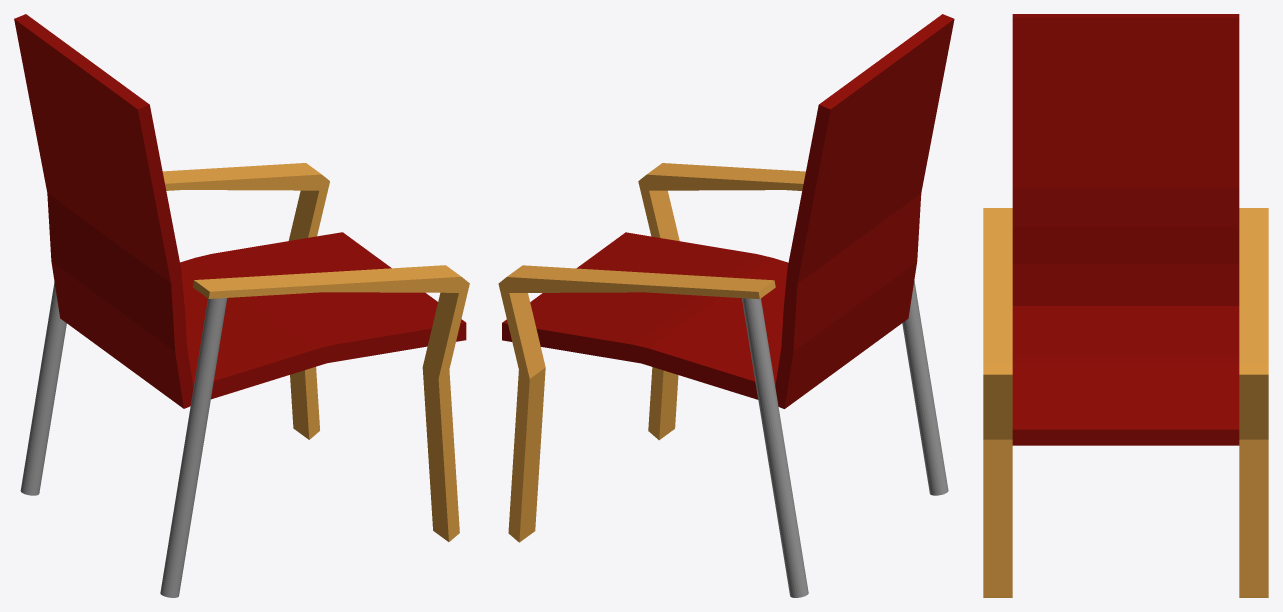
Rendered from SANDALYE.fbx.
The picture shows the model from 3 angles, left to right: view 1: azimuth 30°, elevation 25°; view 2: azimuth 150°, elevation 25°; view 3: azimuth 270°, elevation 25°; orthographic projection. The views are drawn at different scales.
Parts seen in each view (by area): view 1: Cube.001, Cube.002, Cylinder; view 2: Cube.001, Cube.002, Cylinder; view 3: Cube.001, Cube.002.
Boxes of the visible parts, x1,y1,x2,y2 form: Cube.001: (14,14,466,408); Cube.002: (162,163,469,541); Cylinder: (20,282,227,597); Cube.001: (502,14,954,408); Cube.002: (498,163,805,542); Cylinder: (742,280,948,597); Cube.001: (1012,14,1239,445); Cube.002: (983,208,1268,597).
Size of the model in its own units: 1347 by 1940 by 1105.
